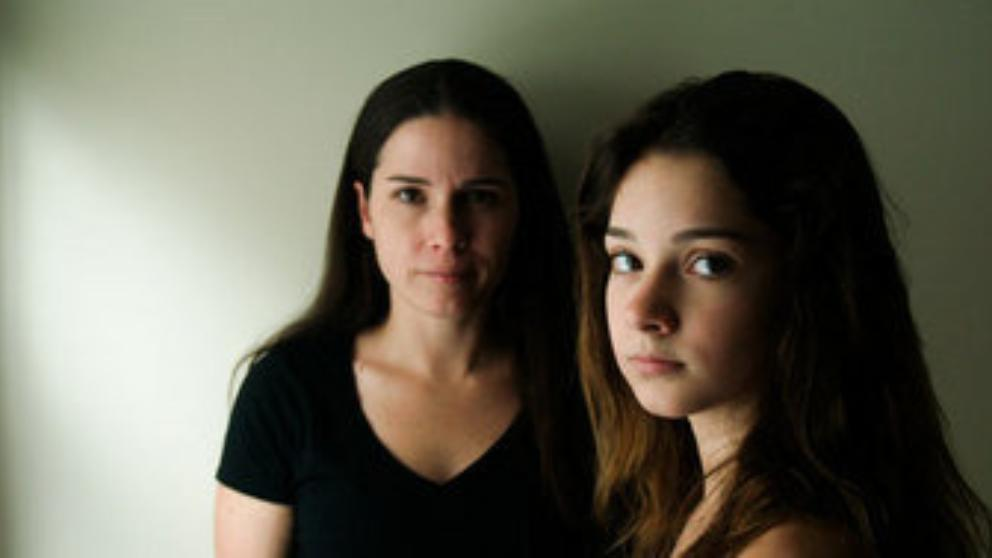person: (568, 75, 962, 515), (262, 72, 588, 477)
